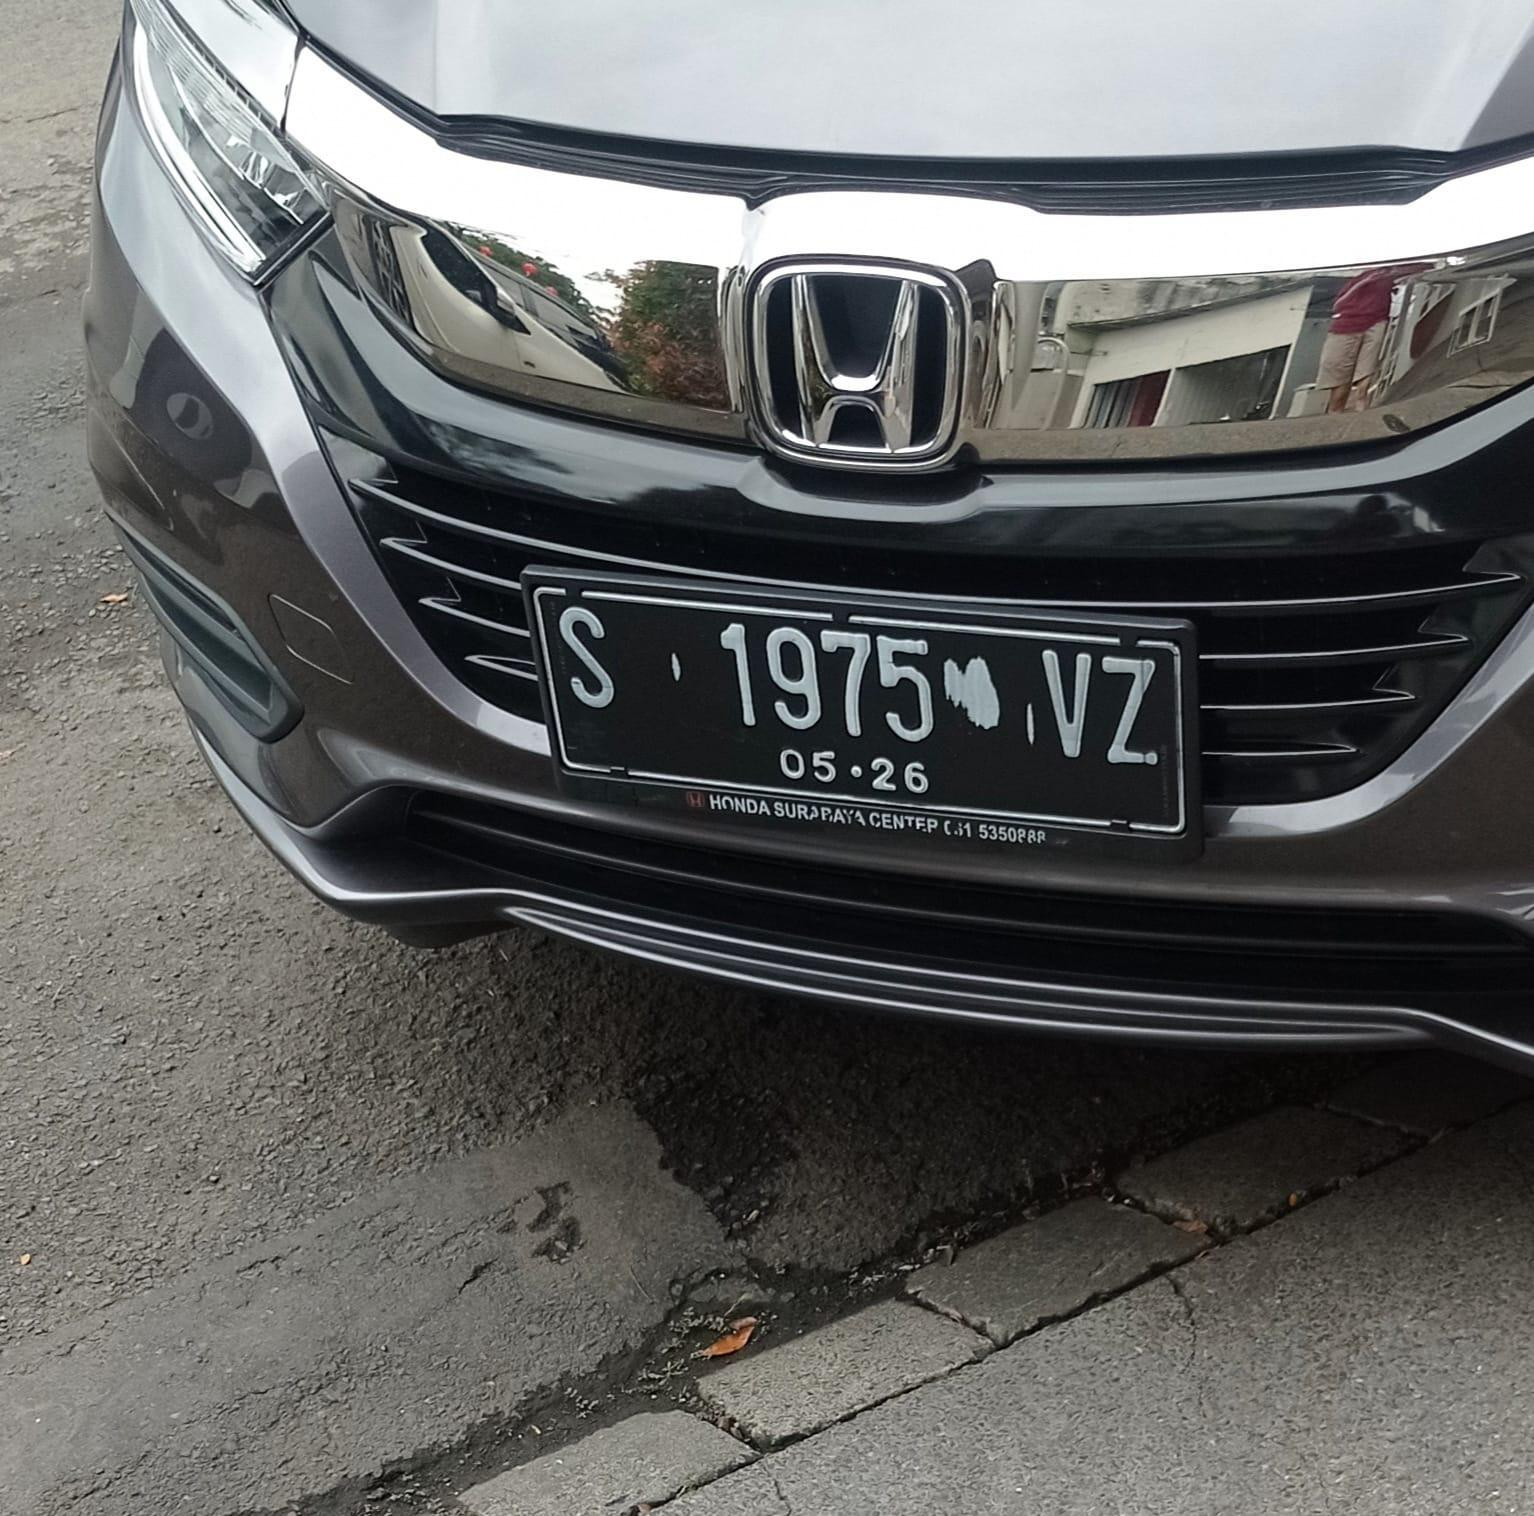plat: (530, 572, 1195, 845)
